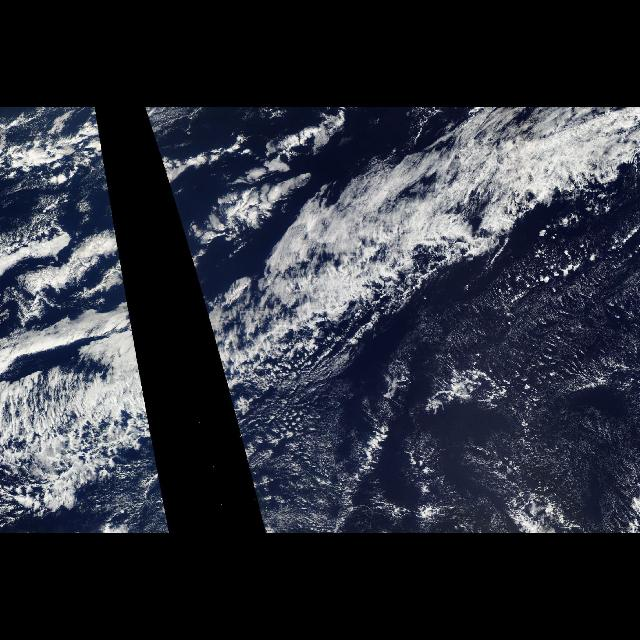Fish: (190, 110, 618, 510), (87, 252, 167, 510)
Gravel: (436, 279, 638, 533), (257, 395, 429, 531)
Sugar: (434, 294, 636, 530)
